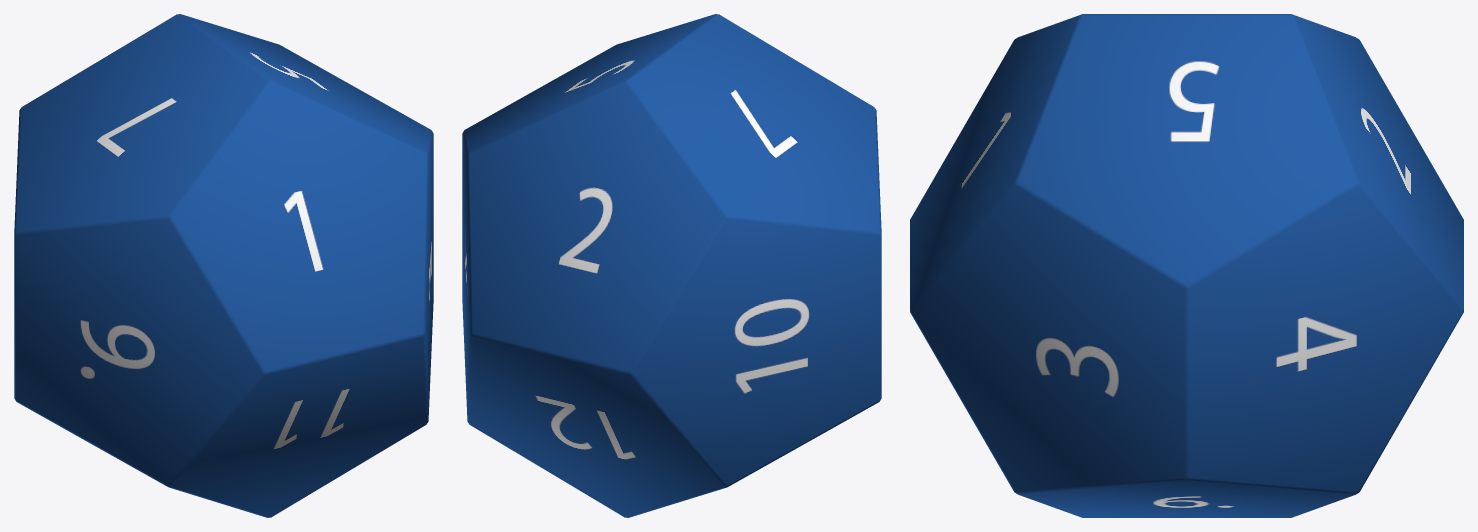
Rendered from twelveFacesDice.glb.
The picture shows the model from 3 angles, left to right: view 1: azimuth 30°, elevation 25°; view 2: azimuth 150°, elevation 25°; view 3: azimuth 270°, elevation 25°; orthographic projection. The views are drawn at different scales.
Visible parts, largest first — view 1: d12; view 2: d12; view 3: d12.
Part boxes in pixels (x1=…): d12: x1=14, y1=14, x2=433, y2=517; d12: x1=462, y1=14, x2=881, y2=517; d12: x1=910, y1=14, x2=1463, y2=517.
Bounding box in the file's own units: 9.45 × 9.45 × 9.45.
Materials: 1 (1 with a texture image).
